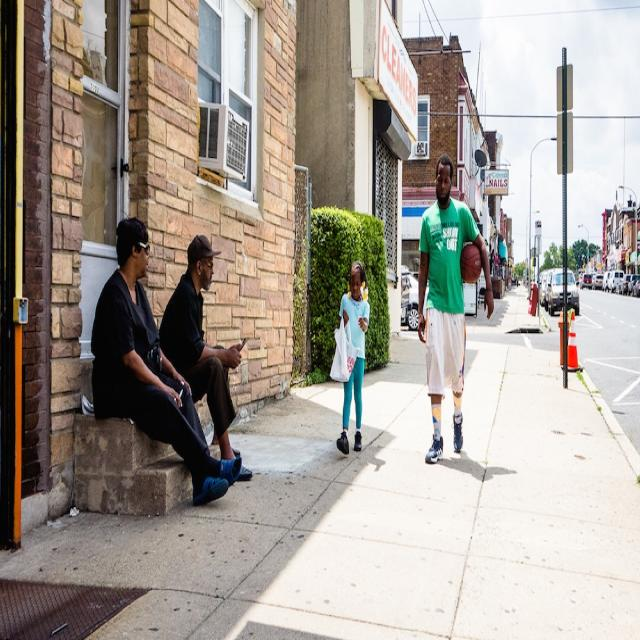body: (88, 212, 244, 510), (415, 151, 495, 467), (158, 233, 254, 482), (336, 259, 370, 457), (434, 448, 518, 486), (501, 272, 520, 291), (578, 269, 584, 291)
